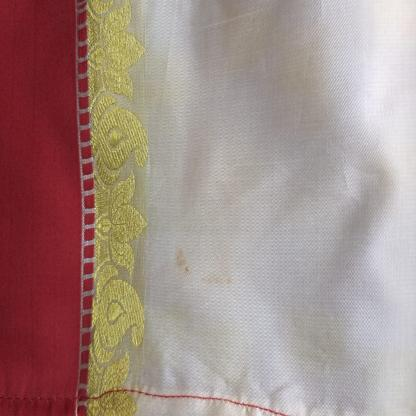spot: (202, 270, 237, 288), (176, 242, 192, 279)
